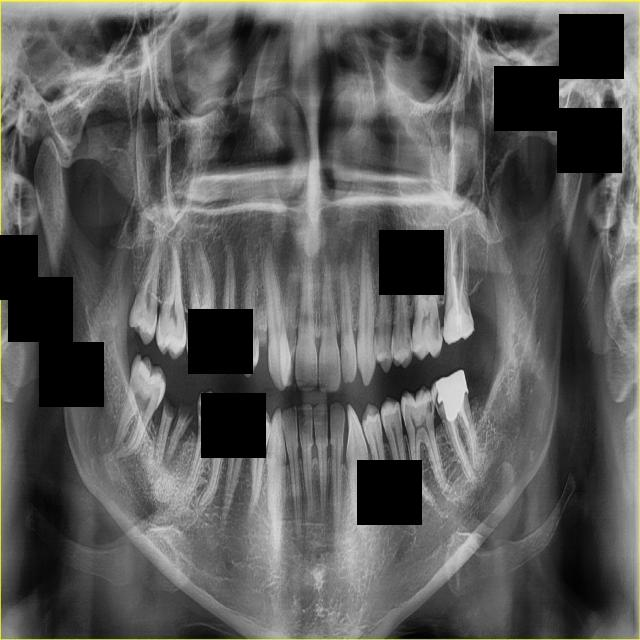71: (449, 275, 463, 332), (458, 402, 471, 432)
72: (153, 395, 178, 467), (163, 405, 194, 463)
74: (450, 420, 469, 473), (457, 235, 468, 305), (449, 232, 458, 307), (467, 425, 478, 468), (449, 226, 455, 303)
NucleOSS Implant: (432, 369, 475, 425)
Sterngold Implant: (428, 383, 444, 411), (431, 315, 443, 346), (196, 398, 207, 423), (136, 370, 151, 388), (161, 325, 176, 340), (425, 393, 434, 416), (186, 324, 196, 344), (136, 308, 147, 325), (407, 334, 411, 352), (388, 336, 391, 351), (215, 337, 218, 350)
Straumann Implant: (442, 299, 475, 344)
